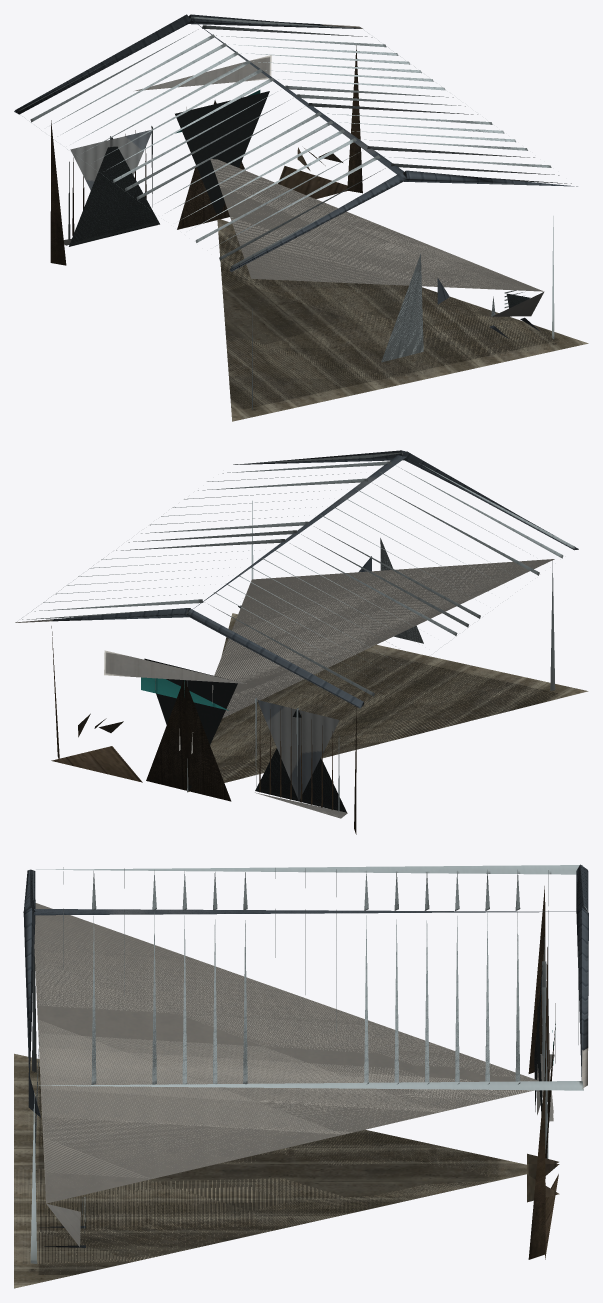
File: shop_002.lod2.obj
The picture shows the model from 3 angles, top to bottom: view 1: azimuth 30°, elevation 25°; view 2: azimuth 150°, elevation 25°; view 3: azimuth 270°, elevation 25°; orthographic projection. The views are drawn at different scales.
Visible parts, largest first — view 1: shop_002; view 2: shop_002; view 3: shop_002.
Part boxes in pixels (<box>): shop_002: <box>14,14,588,421</box>; shop_002: <box>15,450,588,834</box>; shop_002: <box>14,864,588,1288</box>.
Size of the model in its own units: 6.9 by 3.9 by 7.5.
Materials: 1 (1 with a texture image).
